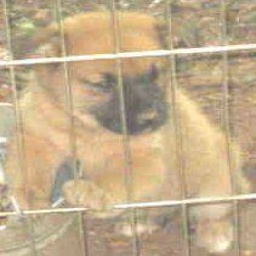dog: (18, 7, 240, 252)
